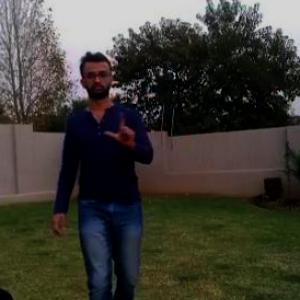land_hand: (100, 105, 140, 160)
